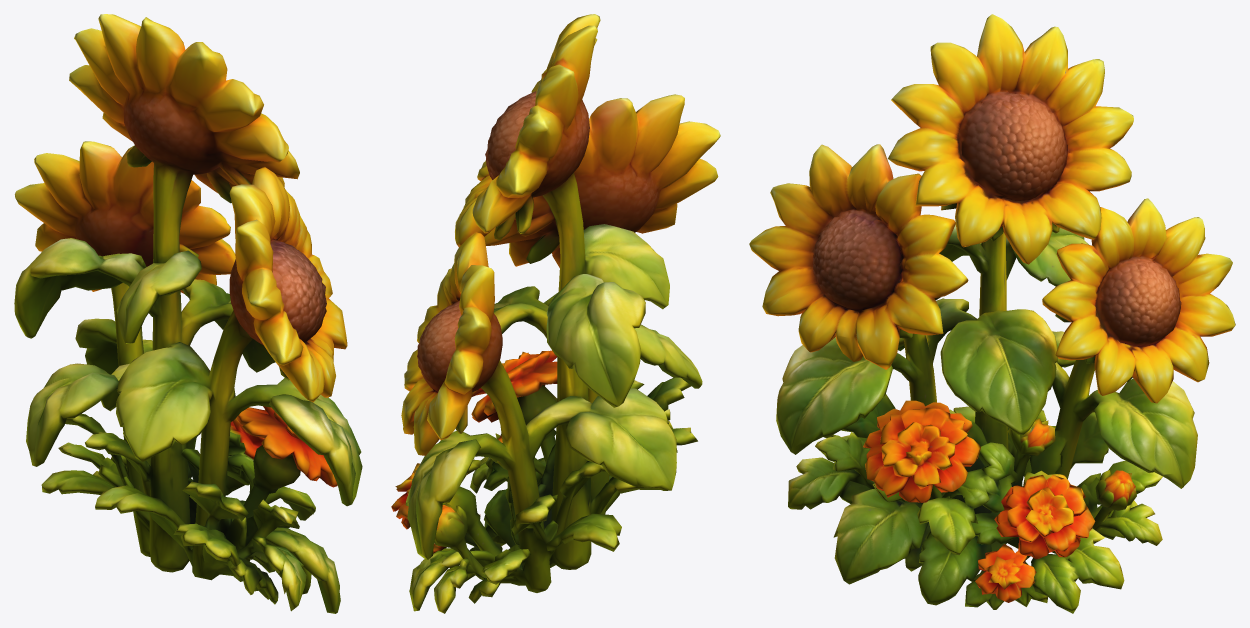
Rendered from Kit_P_Sunflowers_HD_src.glb.
3 views of the same model, side by side, from view 1: azimuth 30°, elevation 25°; view 2: azimuth 150°, elevation 25°; view 3: azimuth 270°, elevation 25° (orthographic). The views are drawn at different scales.
Parts seen in each view (by area): view 1: tripo_node_93bd1aba-76c8-4381-b827-1f423dc6b482; view 2: tripo_node_93bd1aba-76c8-4381-b827-1f423dc6b482; view 3: tripo_node_93bd1aba-76c8-4381-b827-1f423dc6b482.
Boxes of the visible parts, x1=… form: tripo_node_93bd1aba-76c8-4381-b827-1f423dc6b482: x1=14, y1=14, x2=362, y2=613; tripo_node_93bd1aba-76c8-4381-b827-1f423dc6b482: x1=391, y1=14, x2=720, y2=613; tripo_node_93bd1aba-76c8-4381-b827-1f423dc6b482: x1=749, y1=14, x2=1235, y2=613.
Size of the model in its own units: 0.4649 by 0.9828 by 0.8033.
Materials: 1 (1 with a texture image).
